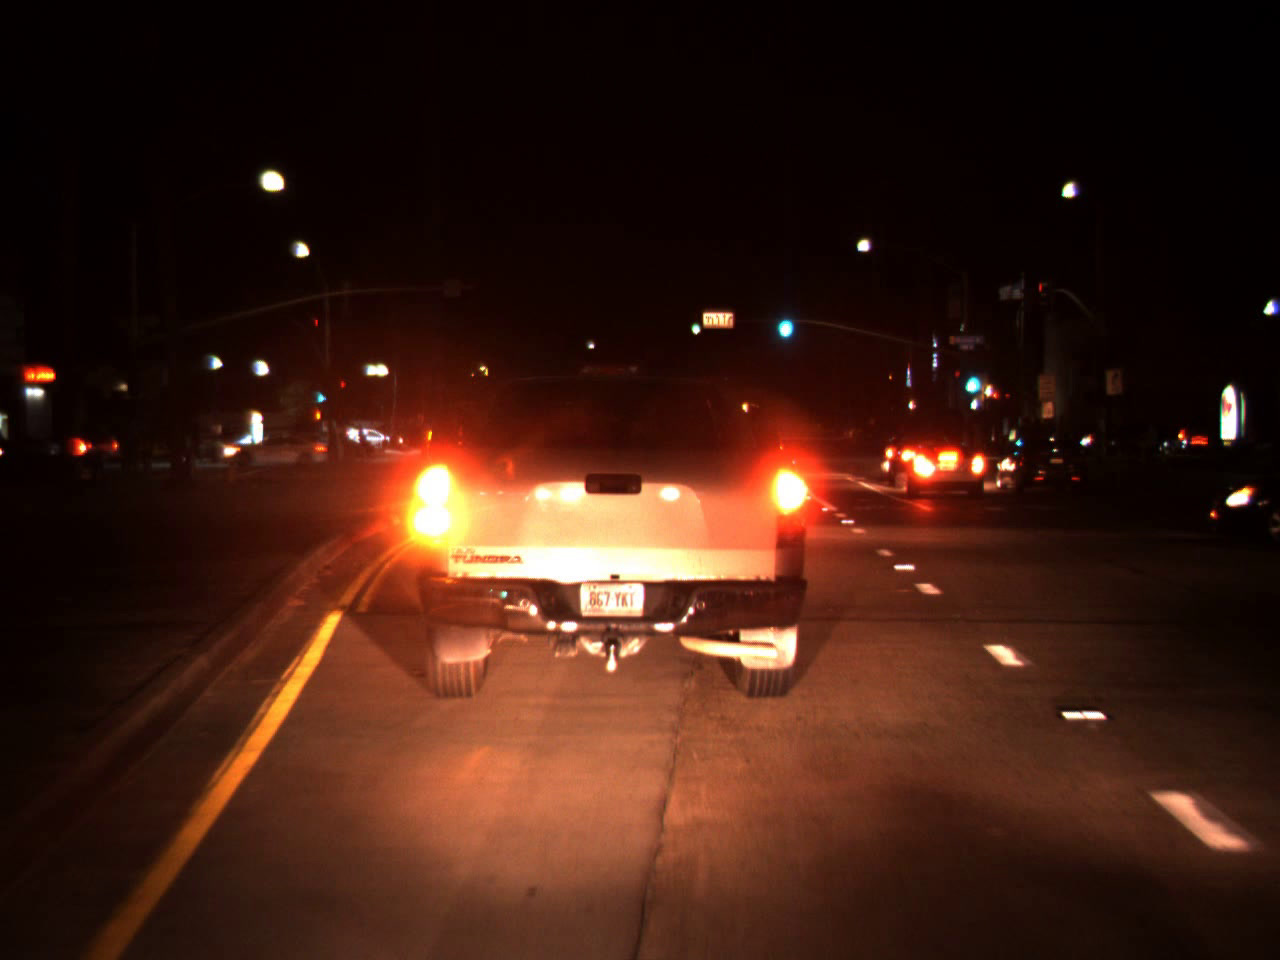go: (772, 301, 795, 340), (959, 358, 981, 397), (688, 313, 700, 334), (315, 384, 325, 405)
